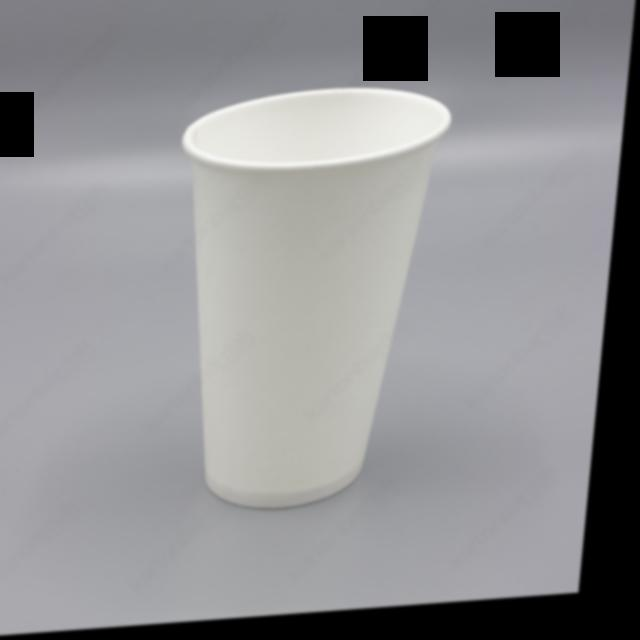karton-bardak: (150, 82, 446, 515)
